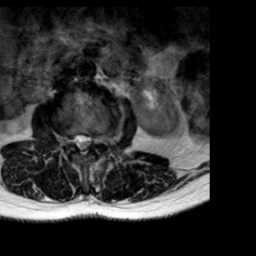CCS_normal: (78, 124, 86, 162)
LFS_normal: (93, 125, 101, 150)
LLS_normal: (86, 125, 93, 155)
RFS_stenosis: (64, 126, 72, 156)
RLS_normal: (71, 125, 78, 154)
